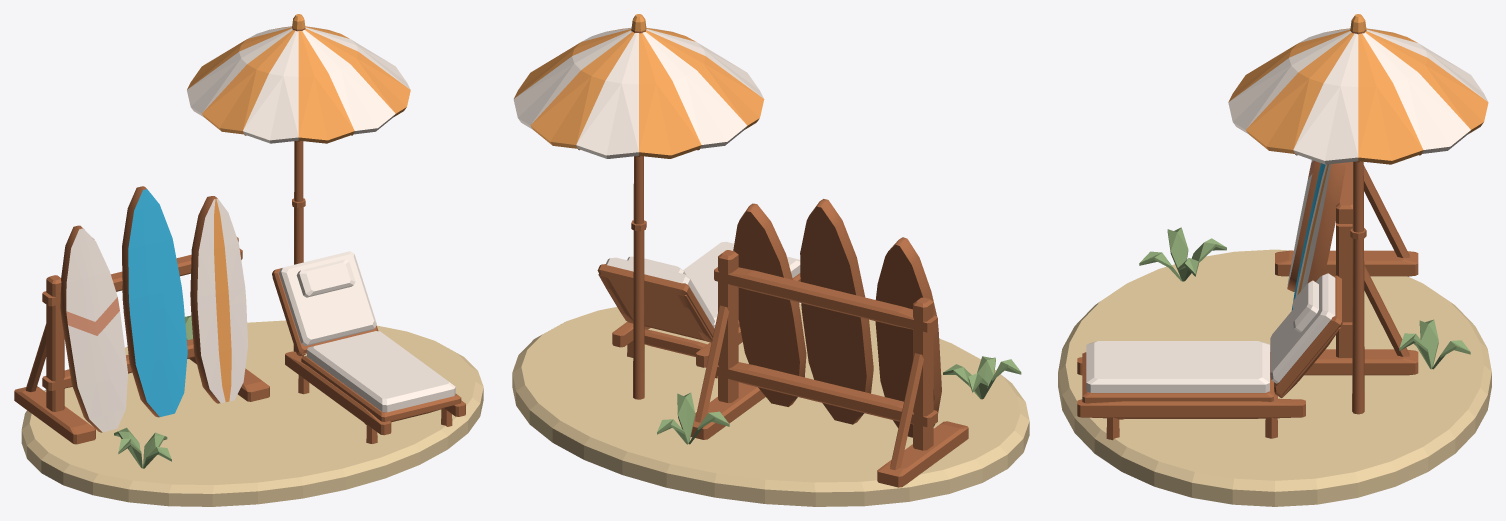
File: surfCorner.glb
3 views of the same model, side by side, from view 1: azimuth 30°, elevation 25°; view 2: azimuth 150°, elevation 25°; view 3: azimuth 270°, elevation 25° (orthographic). The views are drawn at different scales.
Visible parts, largest first — view 1: surfCorner; view 2: surfCorner; view 3: surfCorner.
Boxes of the visible parts, <box> form: surfCorner: <box>14,14,483,506</box>; surfCorner: <box>512,14,1029,506</box>; surfCorner: <box>1058,14,1491,506</box>.
Size of the model in its own units: 3.4 by 2.8 by 2.6.
1 material, 1 textured.
